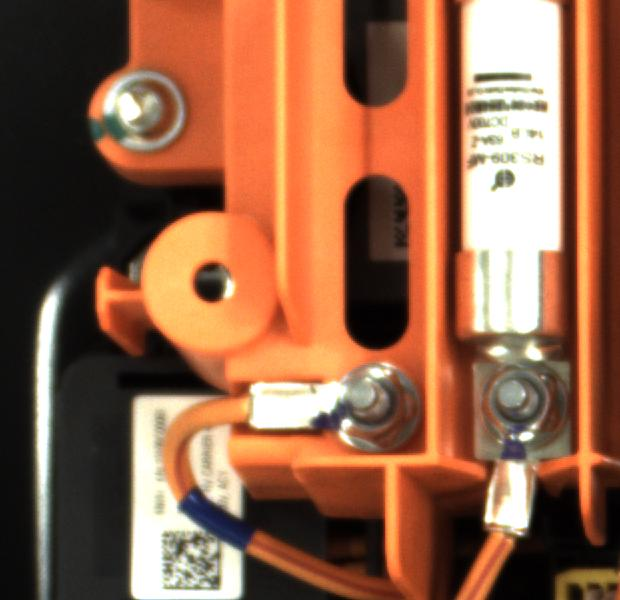screw_m: (98, 64, 196, 154)
screw_s: (325, 359, 417, 442), (481, 361, 564, 448)
